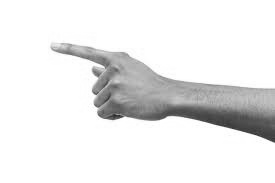pointing_gesture: (47, 42, 181, 121)
